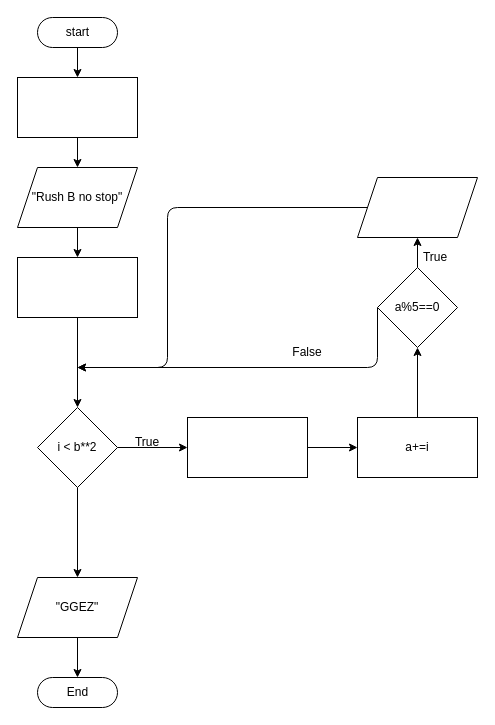
This 495x725 diagram has some shape labels left out. Here are the shapes that lost their labels. From the top down, the centre of each, then its label:
pixel 77 107: a = 0 b = 12
pixel 417 207: "Gotchu"
pixel 77 287: i = 0
pixel 247 447: i += a*2+1
